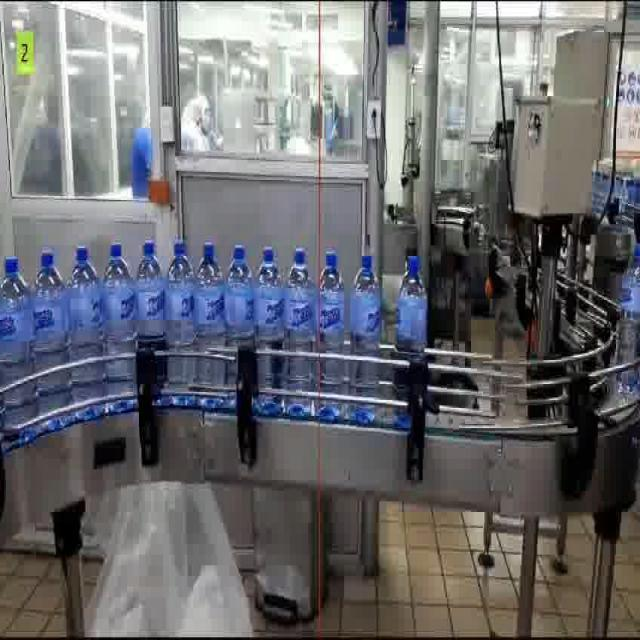bottle: (29, 246, 70, 417), (282, 246, 319, 417), (254, 242, 291, 413), (65, 243, 104, 405), (0, 254, 35, 433), (99, 241, 136, 398), (192, 238, 226, 398), (316, 248, 352, 390), (164, 236, 196, 394), (347, 254, 383, 392), (394, 250, 430, 360), (223, 242, 256, 353), (393, 253, 429, 354), (132, 238, 166, 341)
